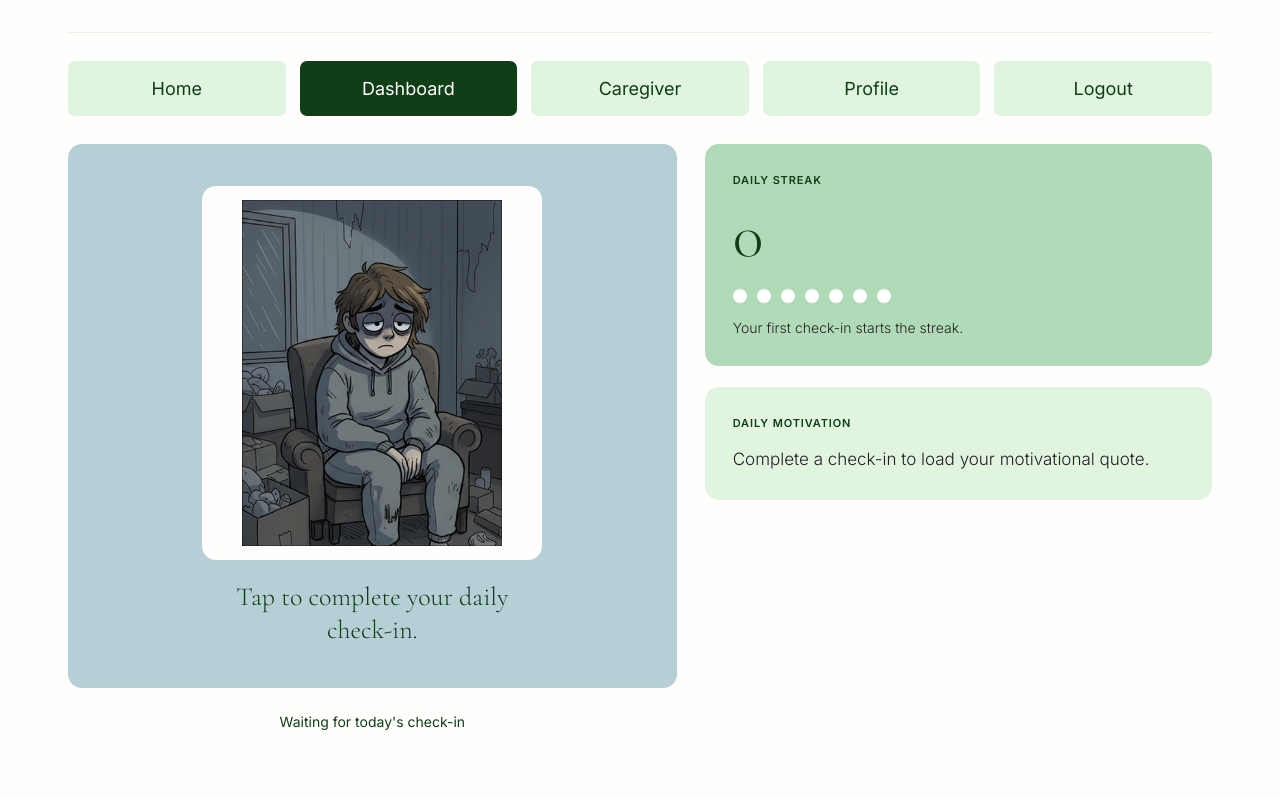
Test: Dashboard and shared context › shows quote api error when quote request fails
(page scrolled)
Click the button "Tap to complete your daily check-in." at [105, 416], box x1=68 y1=144 x2=677 y2=688
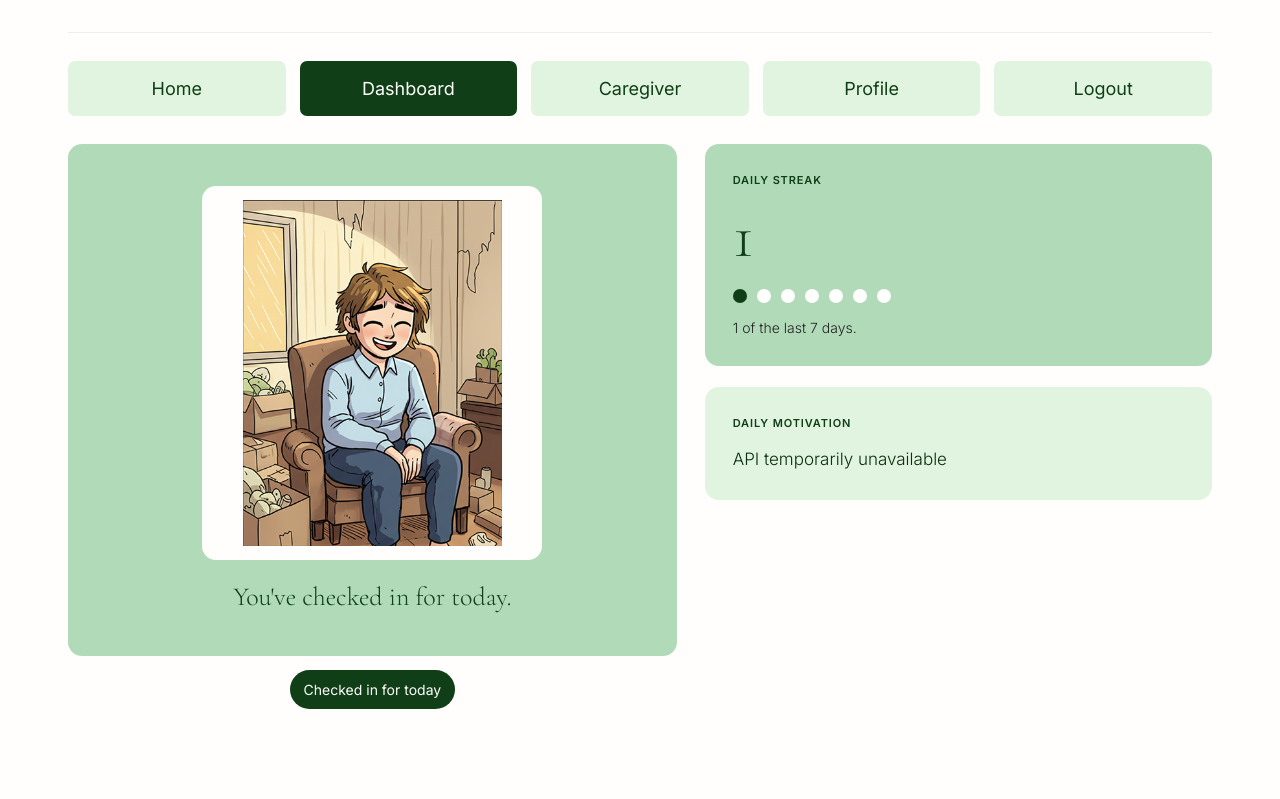
expect the text "API temporarily unavailable" is shown: met, box x1=733 y1=449 x2=947 y2=469
